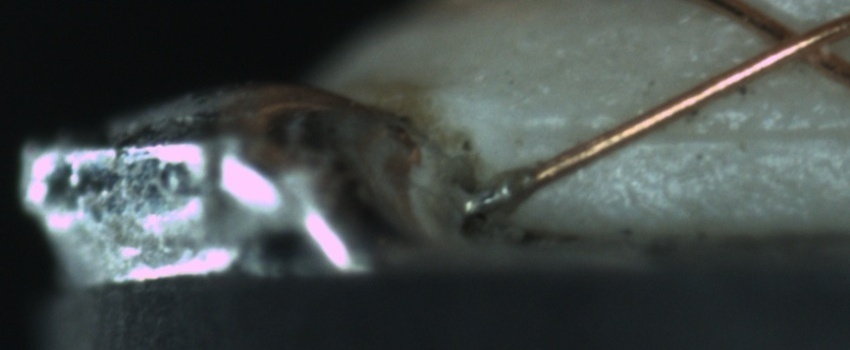CL: (740, 5, 843, 79)
DL: (533, 98, 850, 165)
TS: (460, 171, 532, 218)
TTCW: (456, 152, 561, 219)
